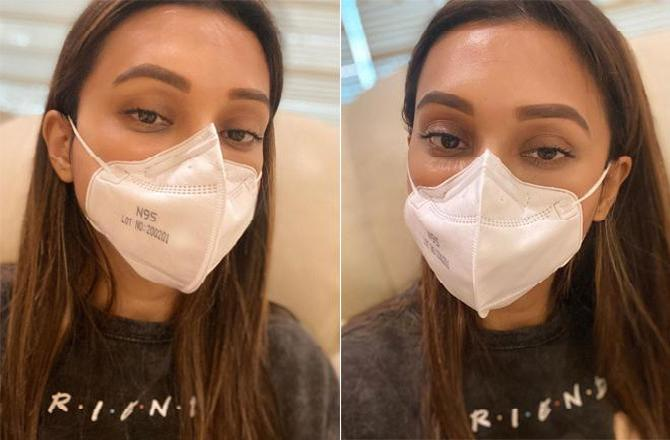n95: (387, 146, 597, 317), (74, 123, 272, 296)
